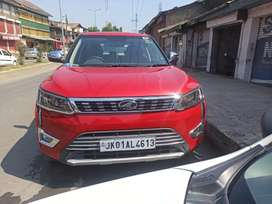JK01AL4613: (99, 135, 155, 150)
